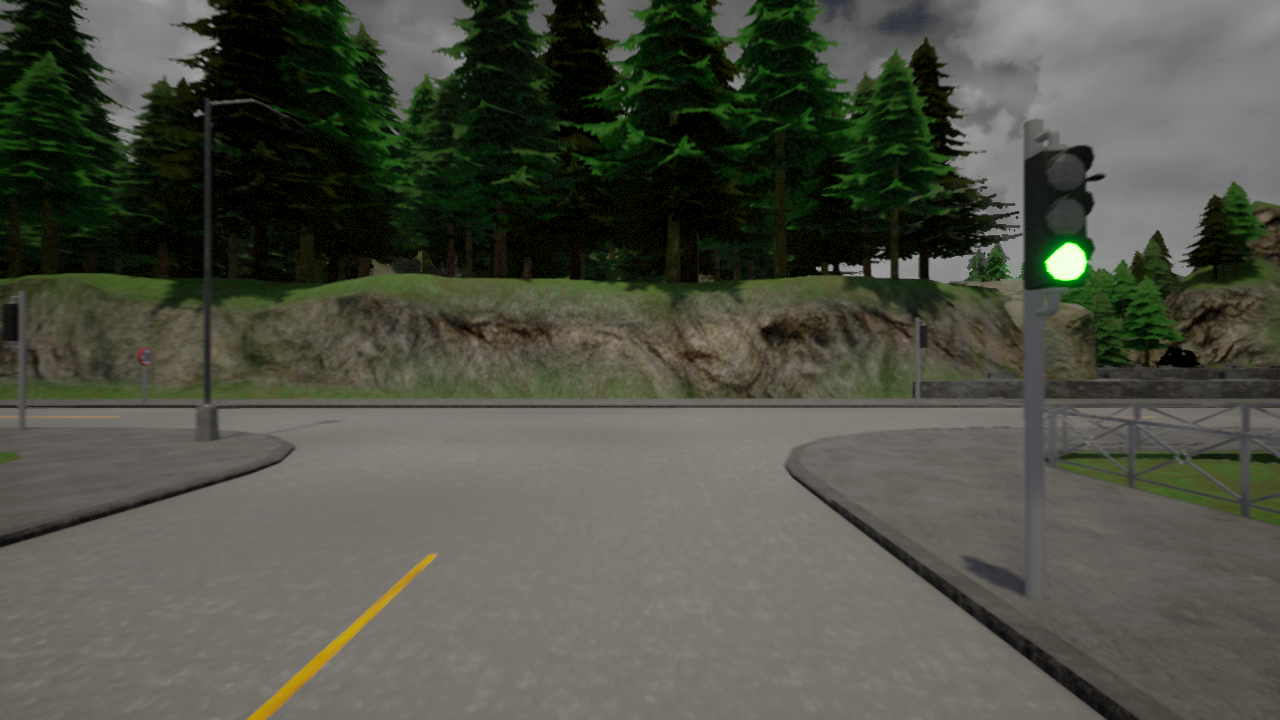green: (1023, 143, 1094, 292)
